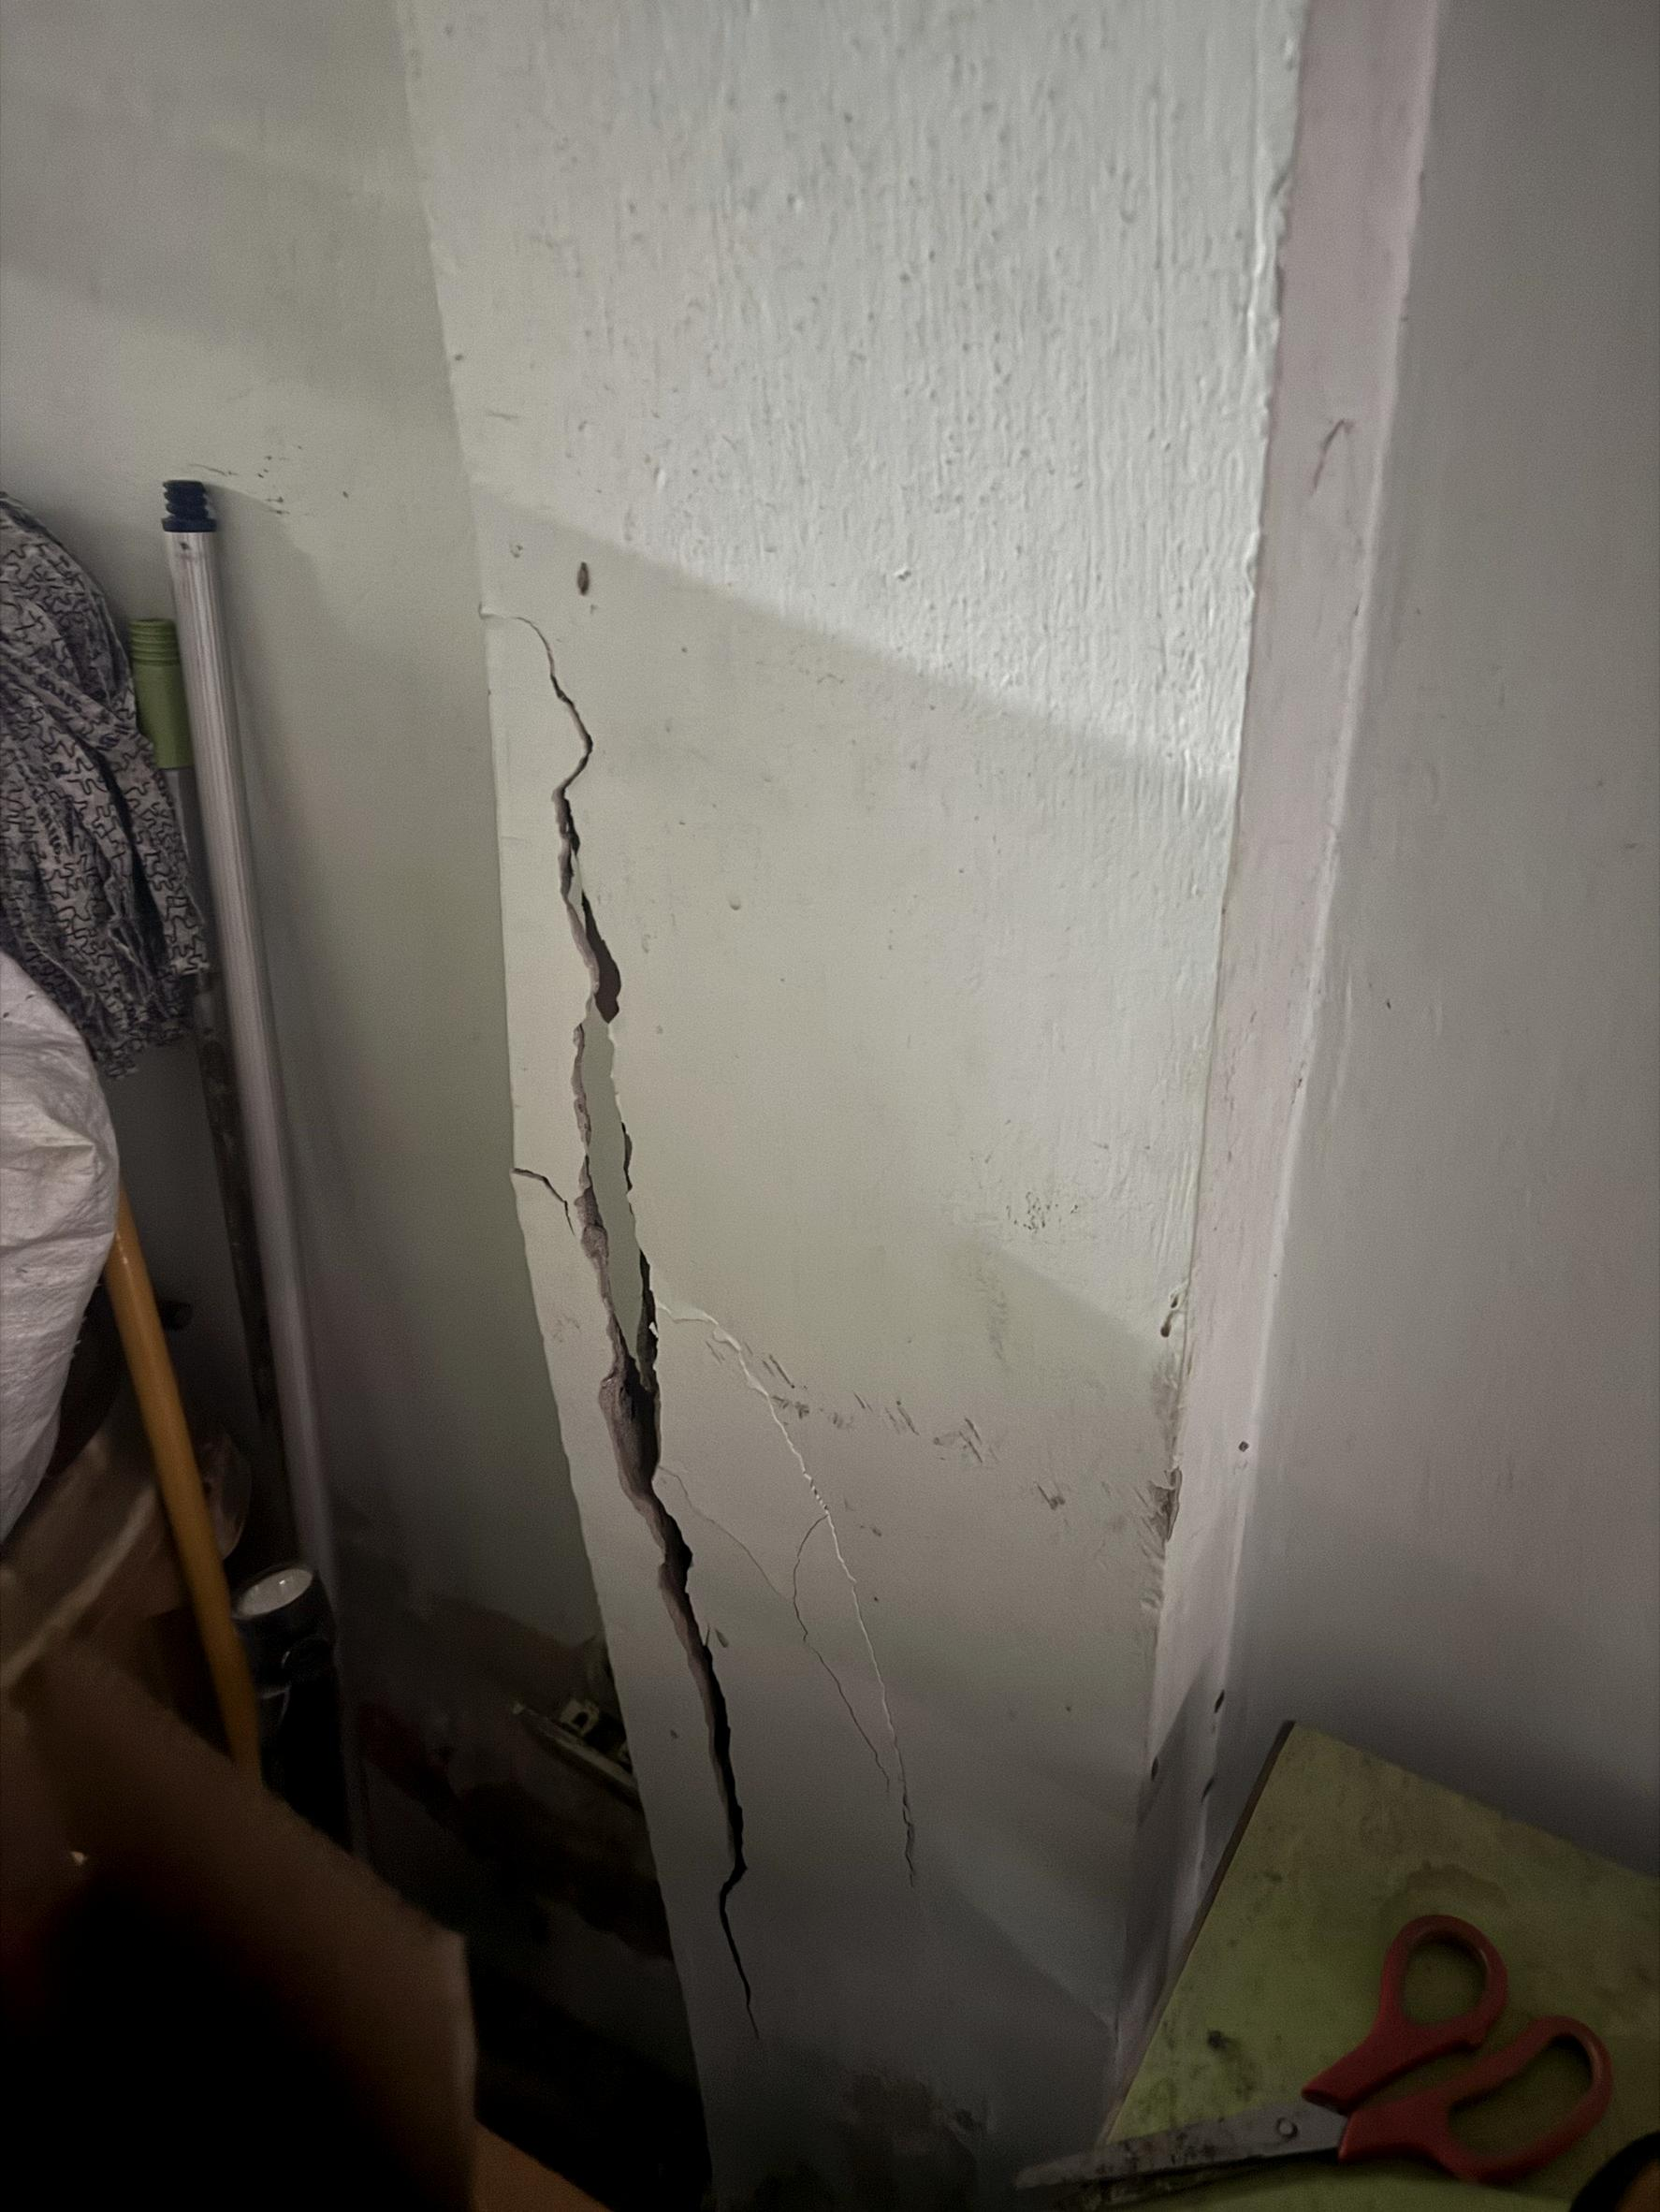High: (399, 547, 1081, 2123)
